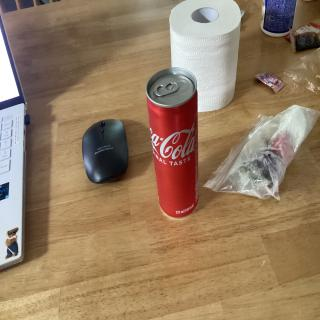cocacola: (146, 64, 205, 225)
